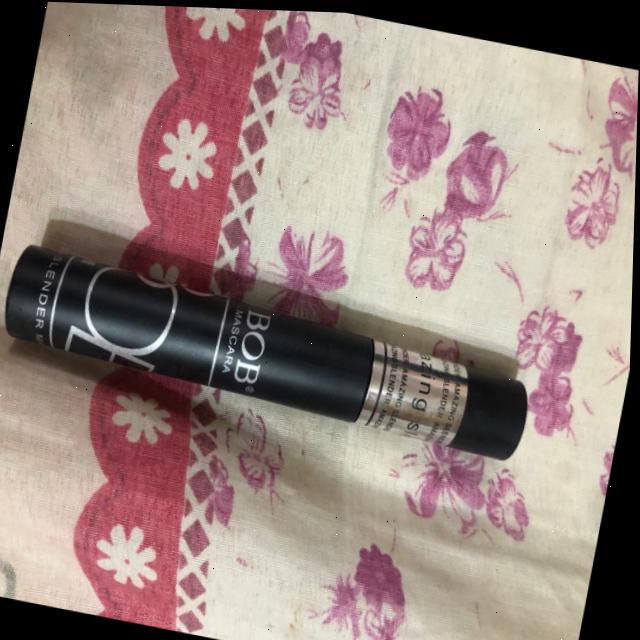mascara: (0, 201, 574, 486)
